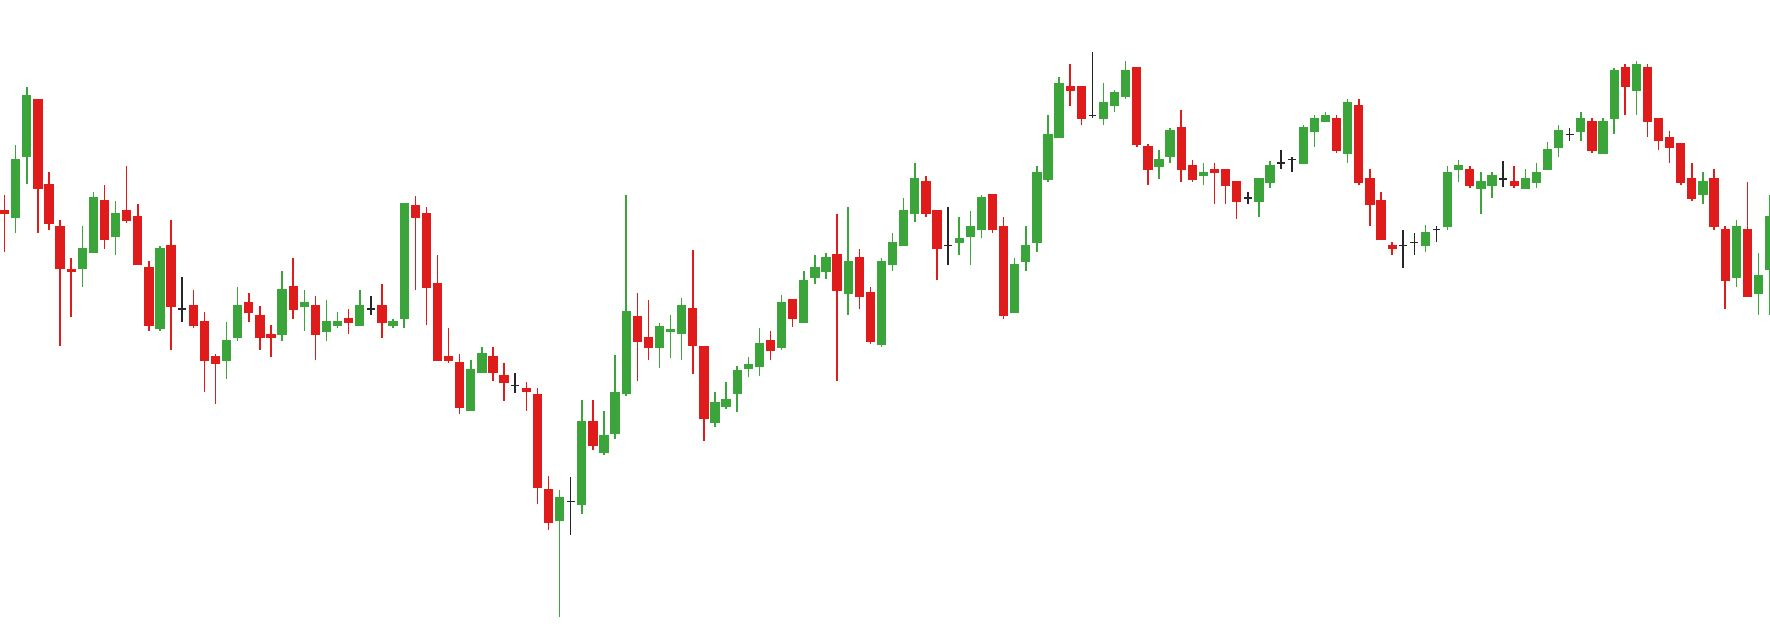buy: (930, 209, 1020, 328)
sell: (277, 192, 432, 319)
